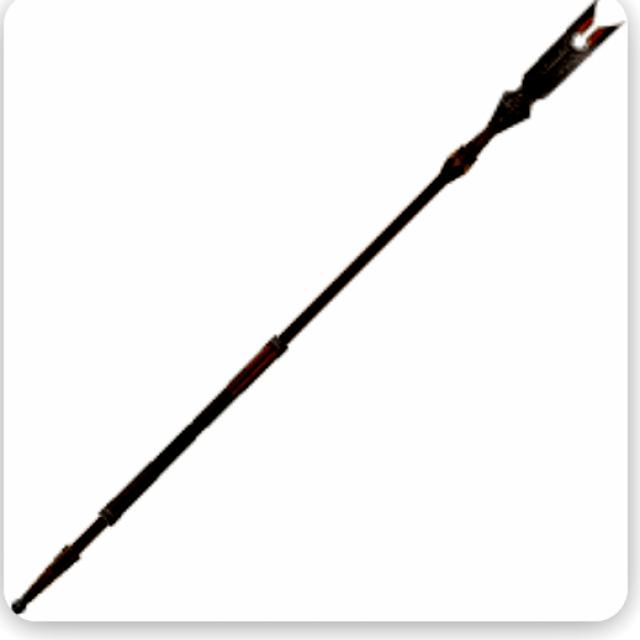spear: (4, 6, 631, 628)
